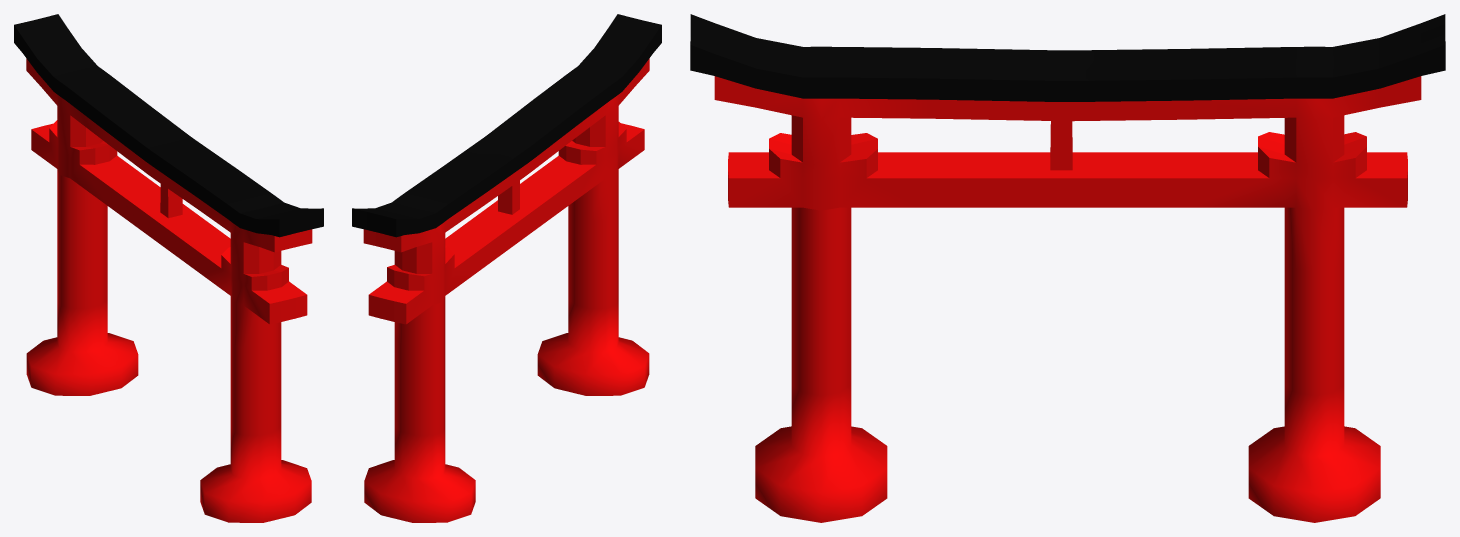
Rendered from tori gate export.fbx.
The picture shows the model from 3 angles, left to right: view 1: azimuth 30°, elevation 25°; view 2: azimuth 150°, elevation 25°; view 3: azimuth 270°, elevation 25°; orthographic projection. The views are drawn at different scales.
Parts seen in each view (by area): view 1: Cylinder368; view 2: Cylinder368; view 3: Cylinder368.
Boxes of the visible parts, left/top/right/bottom form: Cylinder368: left=14, top=14, right=323, bottom=522; Cylinder368: left=352, top=14, right=661, bottom=522; Cylinder368: left=690, top=14, right=1445, bottom=522.
Bounding box in the file's own units: 22.59 × 67.96 × 102.
